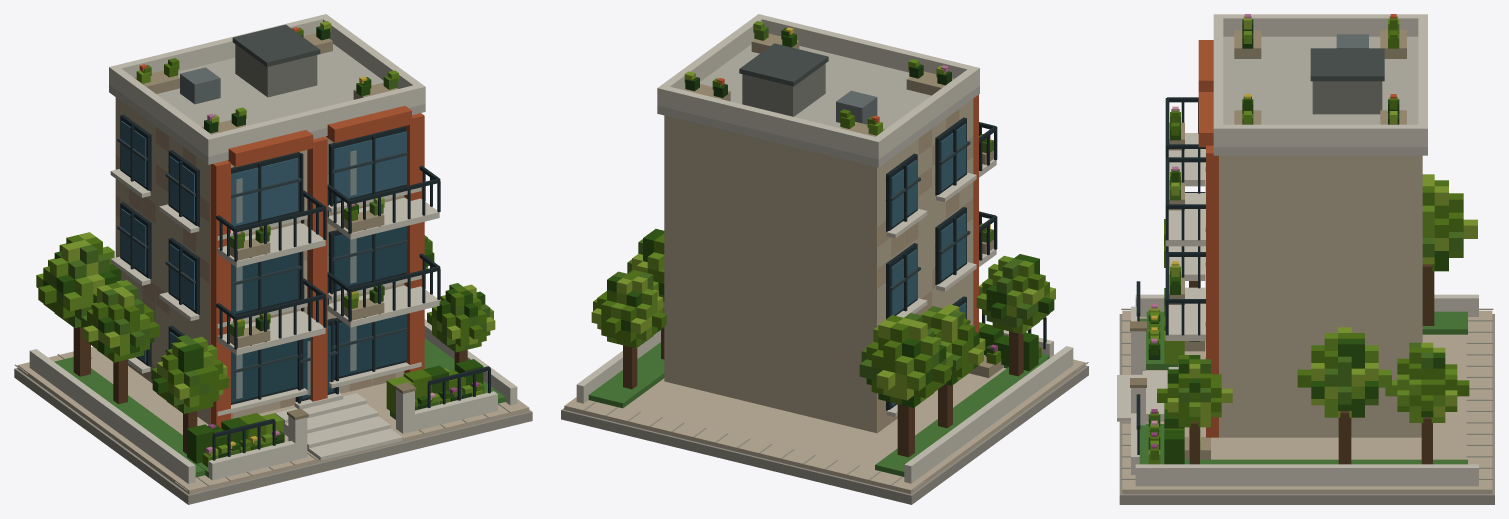
File: SM_Mapa_022.fbx
The picture shows the model from 3 angles, left to right: view 1: azimuth 30°, elevation 25°; view 2: azimuth 150°, elevation 25°; view 3: azimuth 270°, elevation 25°; orthographic projection. The views are drawn at different scales.
Visible parts, largest first — view 1: SM_Mapa_022; view 2: SM_Mapa_022; view 3: SM_Mapa_022.
Part boxes in pixels (x1,y1,x2,y2): SM_Mapa_022: (14,14,532,504); SM_Mapa_022: (561,14,1088,504); SM_Mapa_022: (1117,14,1494,504).
Bounding box in the file's own units: 8 × 6.94 × 7.37.
